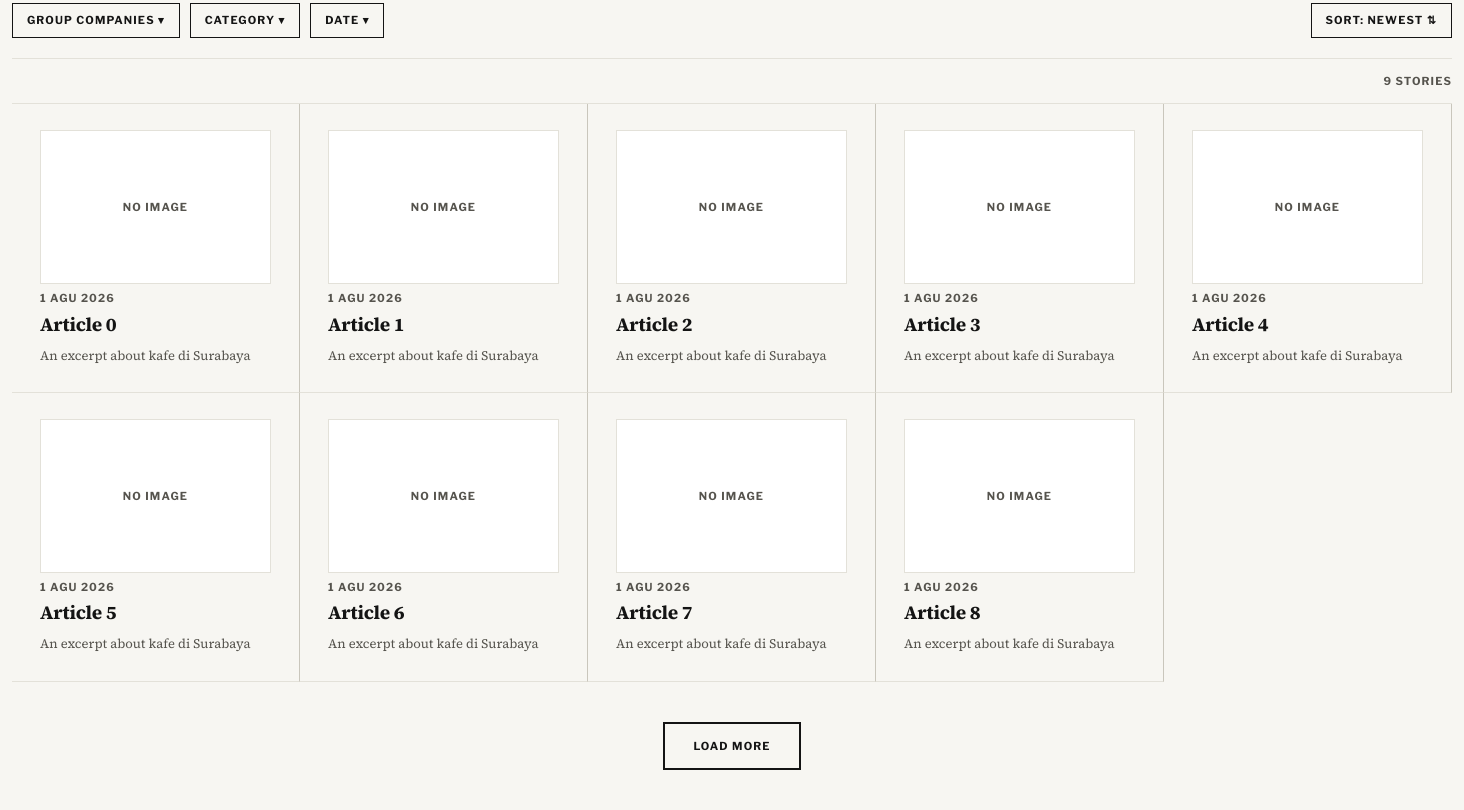
NewsExplorer › load-more appends fetched articles, and hides itself once a page returns fewer than a full page
(page scrolled)
Click the button "Load more" at (732, 746), box x1=663 y1=722 x2=801 y2=770
(page scrolled)
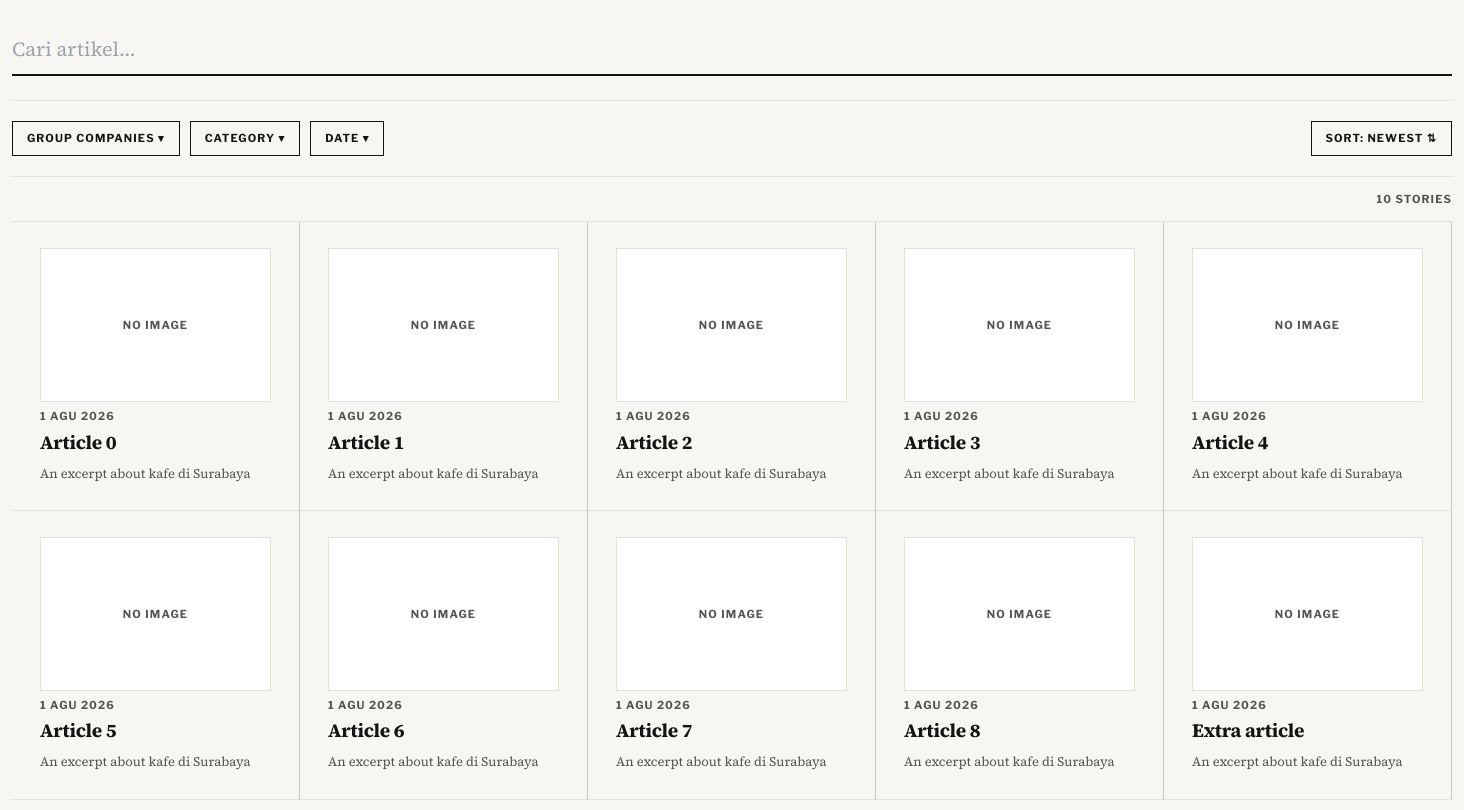
Expected: the text "Article 0" is shown, x1=40 y1=428 x2=116 y2=454
Now the text "Extra article" is shown, box x1=1192 y1=717 x2=1304 y2=743
Now the button "Load more" is gone
